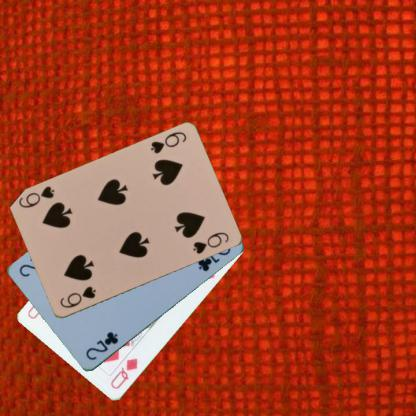2c: (82, 329, 119, 362)
6s: (147, 130, 188, 156), (57, 284, 97, 310)
Qd: (108, 356, 140, 391)
